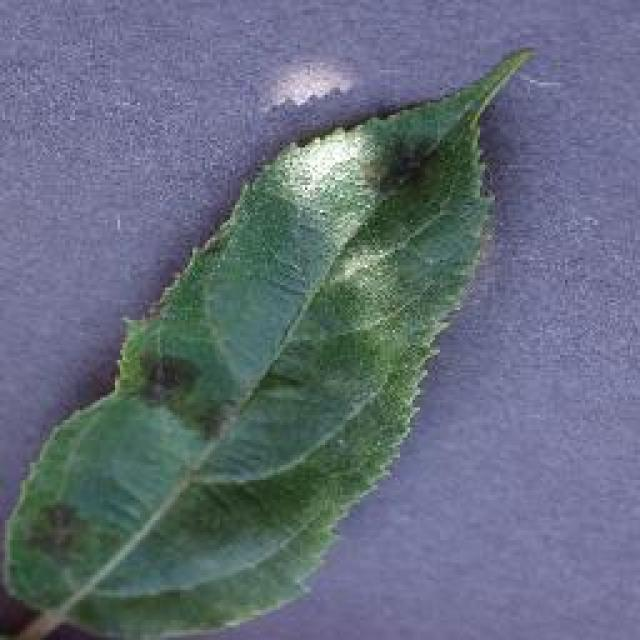apple scab disease: (0, 42, 538, 638)
